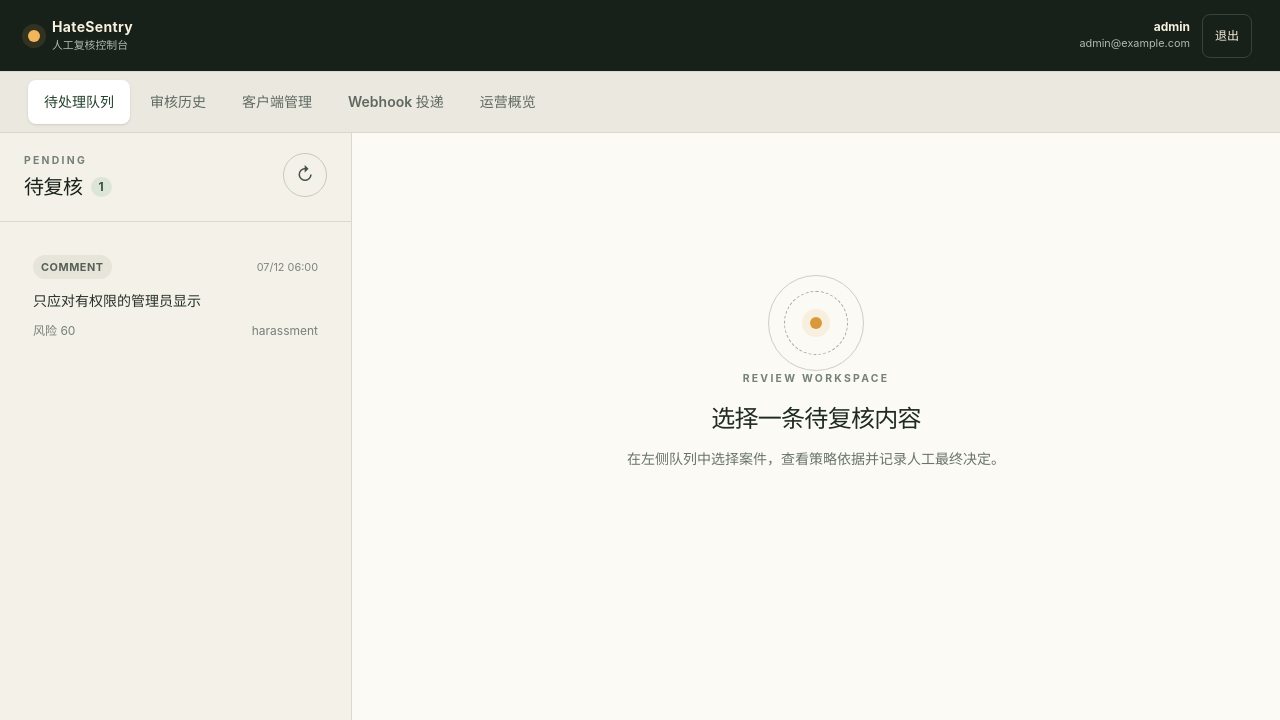
Test: App authentication boundary › keeps the session but does not reveal detail after a 403
This screenshot has width=1280, height=720.
Step 1. Click the button "comment 07/12 06:00 只应对有权限的管理员显示 风险 60 harassment" → [176, 297], box [16, 238, 335, 356]
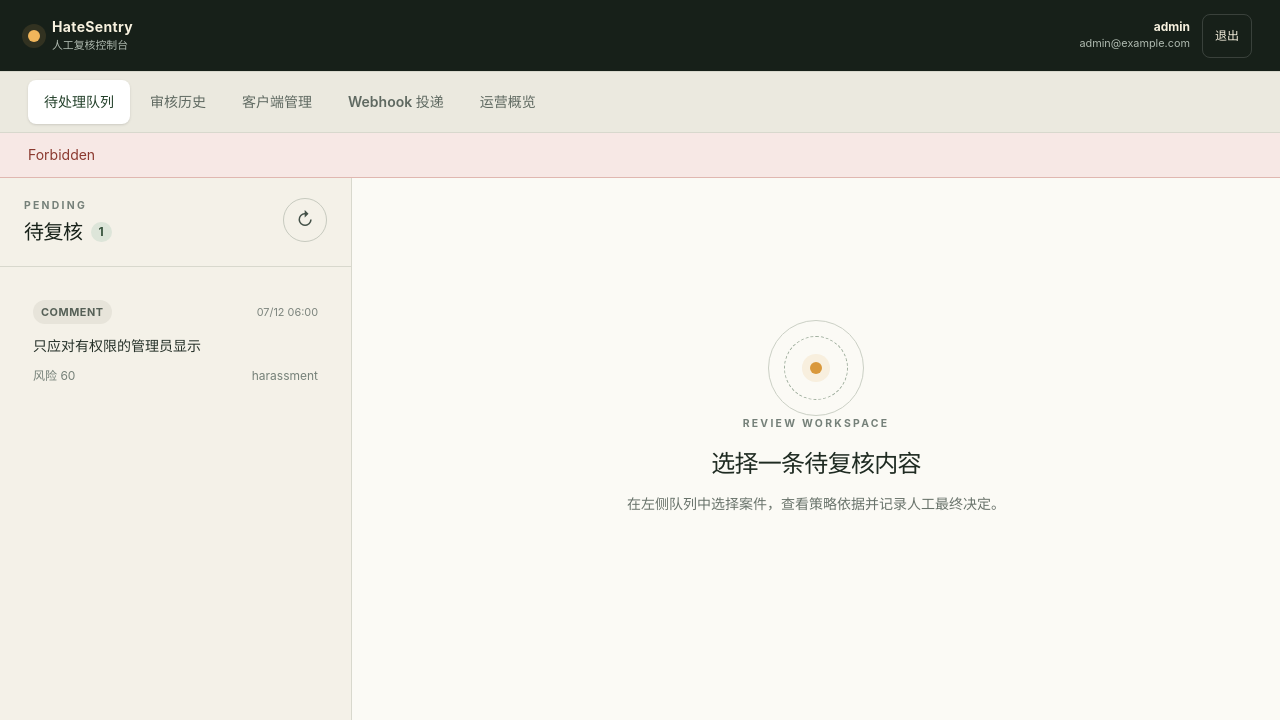
Expected: the element with class "detail-placeholder" is shown, [627, 320, 1005, 512]
Expected: the text "Forbidden" is shown, [0, 133, 1279, 178]
